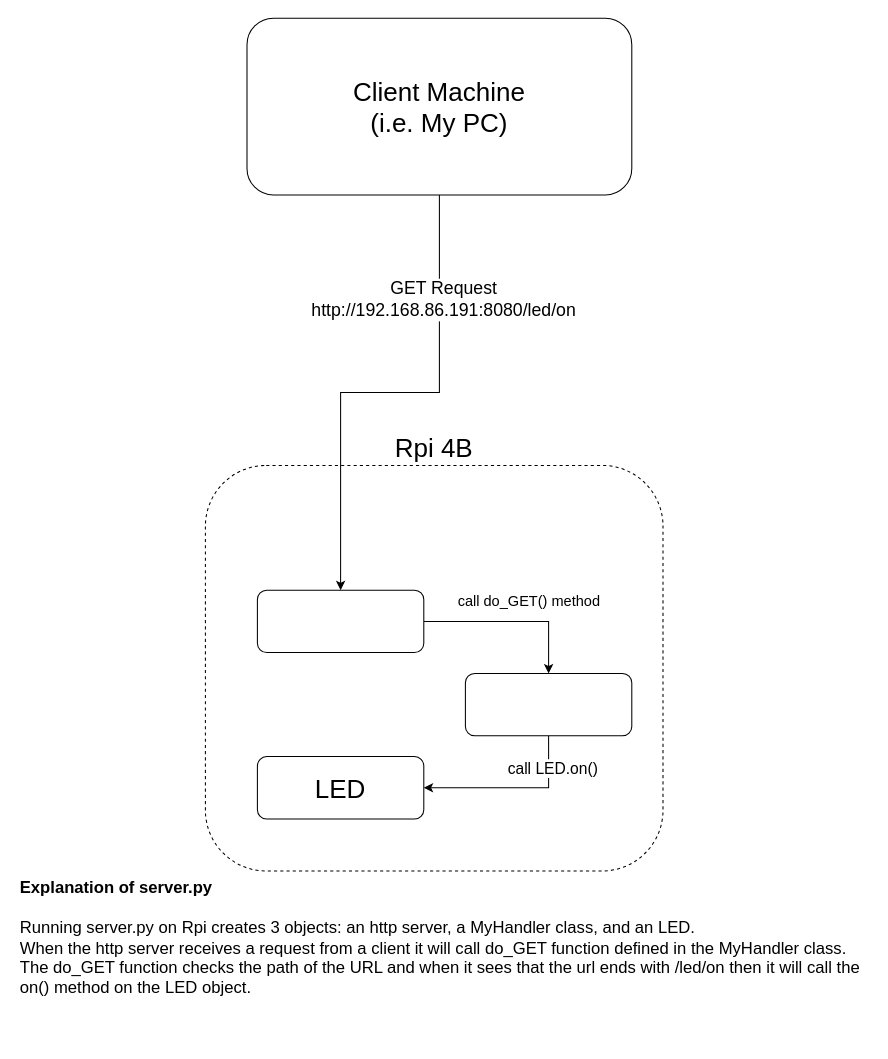
Some shapes in this 888 by 1059 pixel diagram are drawn without their labels. Here are the shapes that lost their labels. From the top down, the centre of each, then its label:
At point (340, 621): "http server".
At point (548, 704): "MyHandler".
